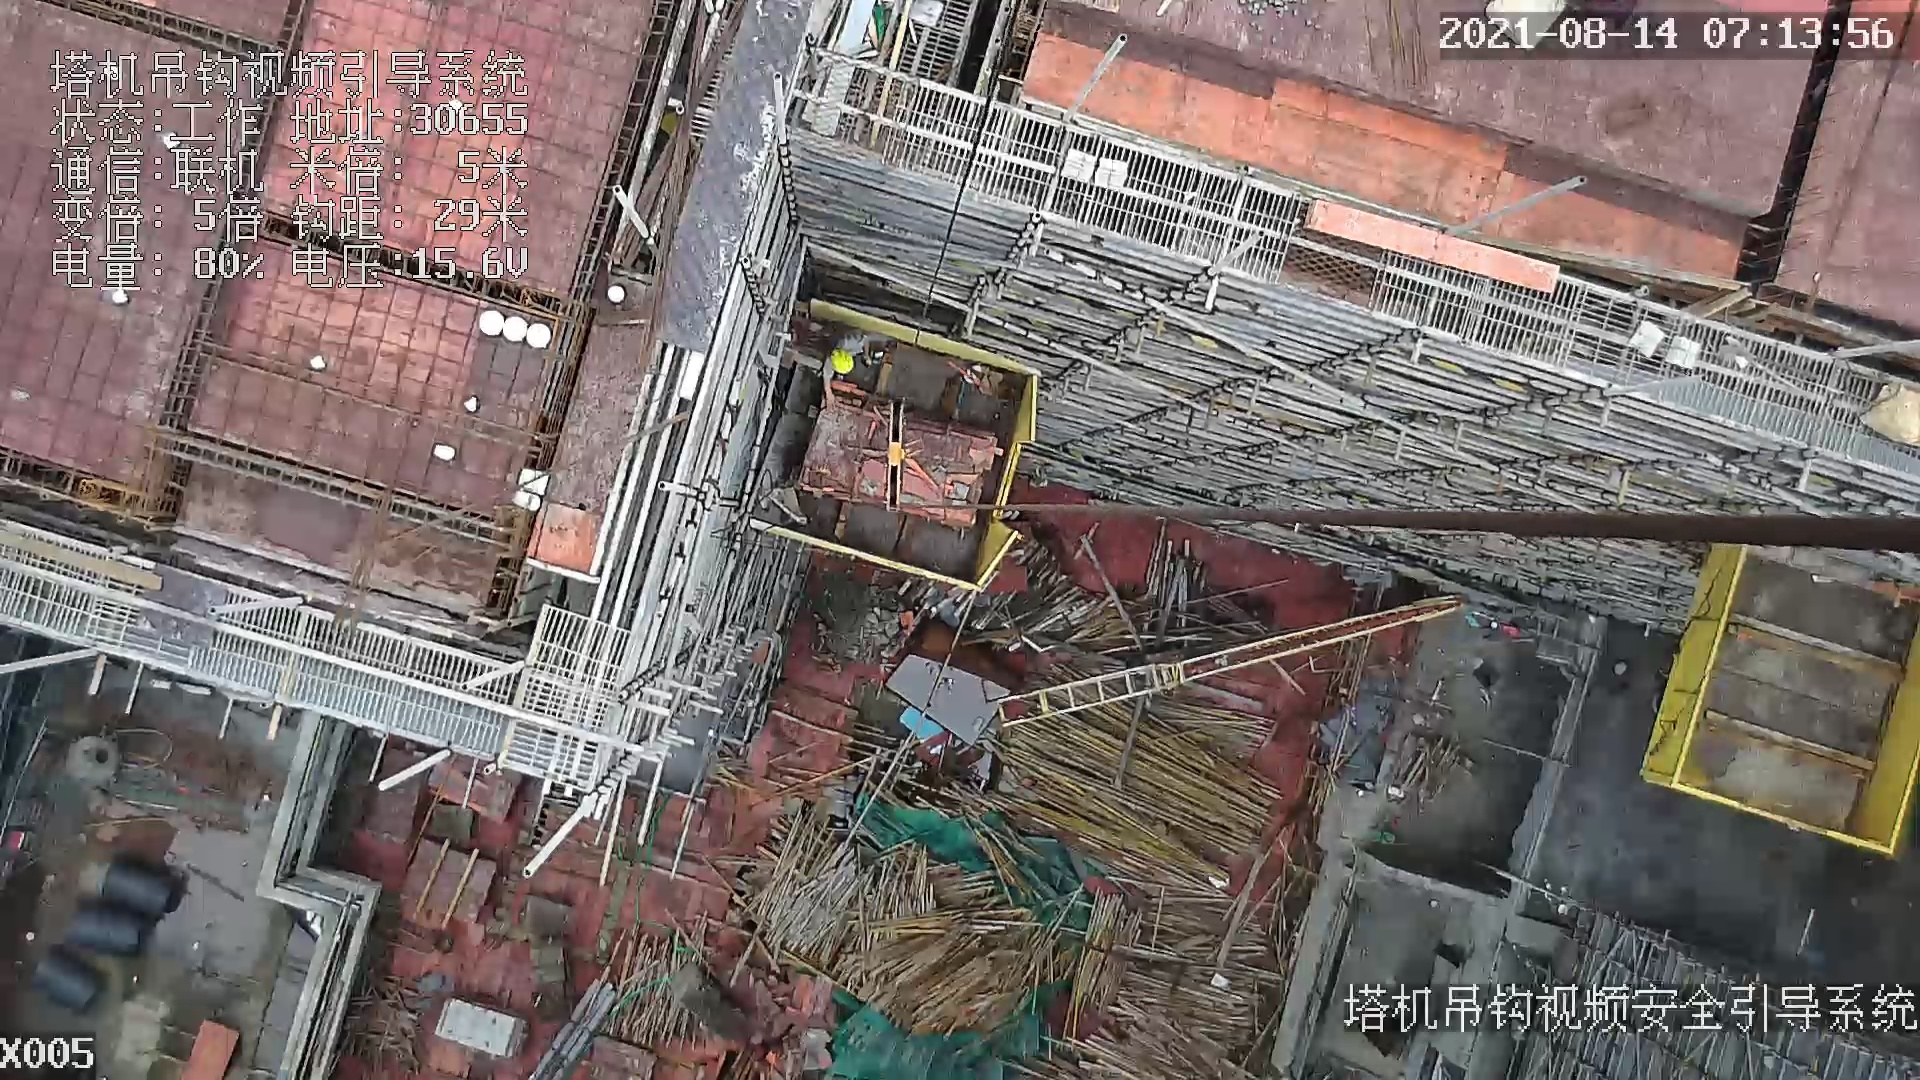helmet: (828, 345, 855, 380)
hook: (878, 395, 914, 515)
person: (815, 327, 876, 400)
